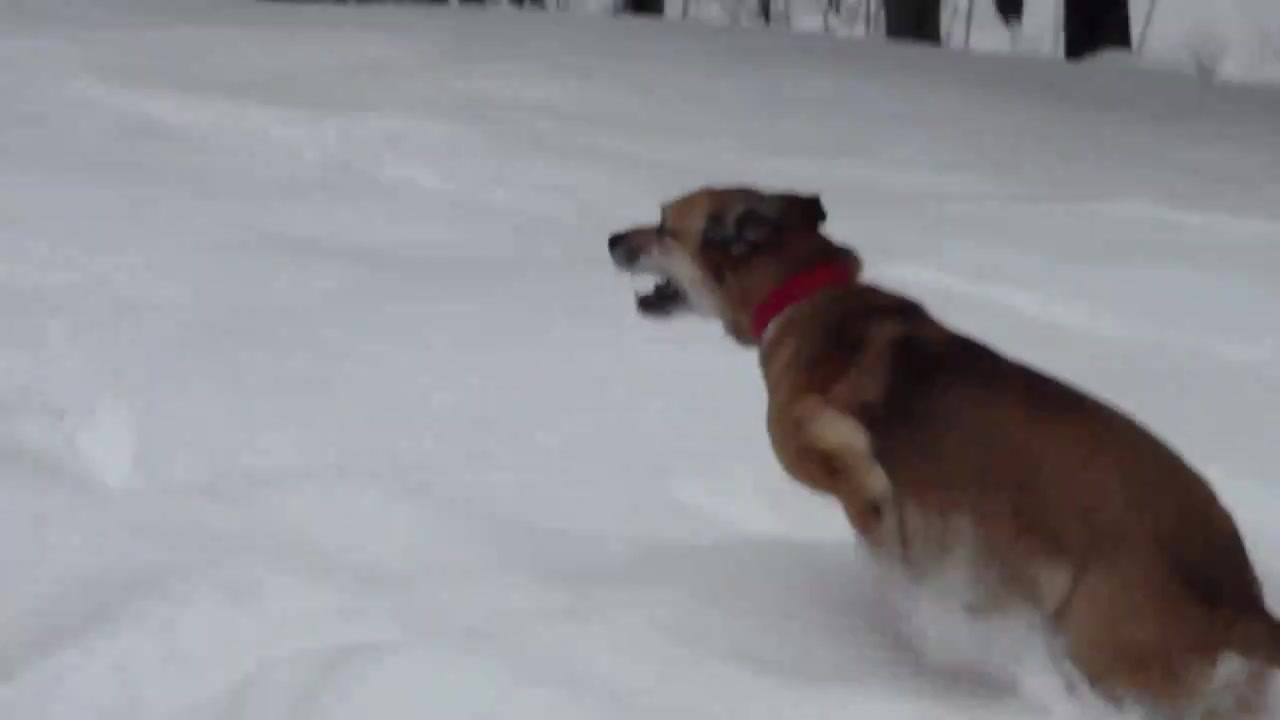dog: (606, 176, 1280, 720)
